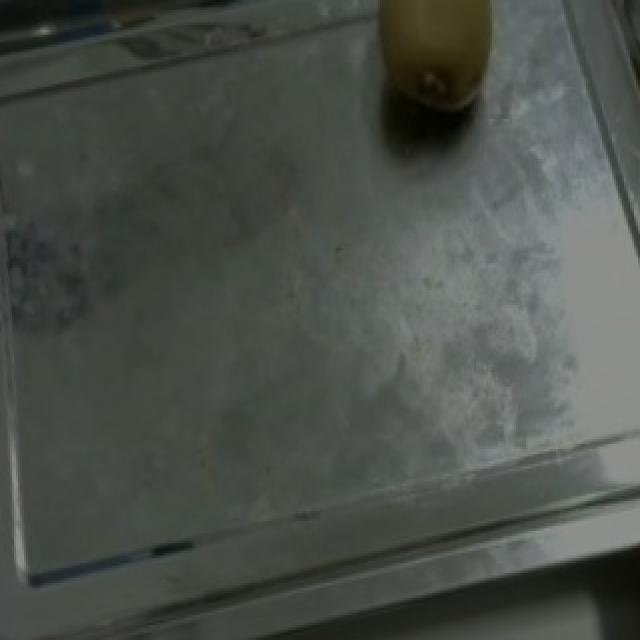Fruit: (342, 0, 532, 164)
